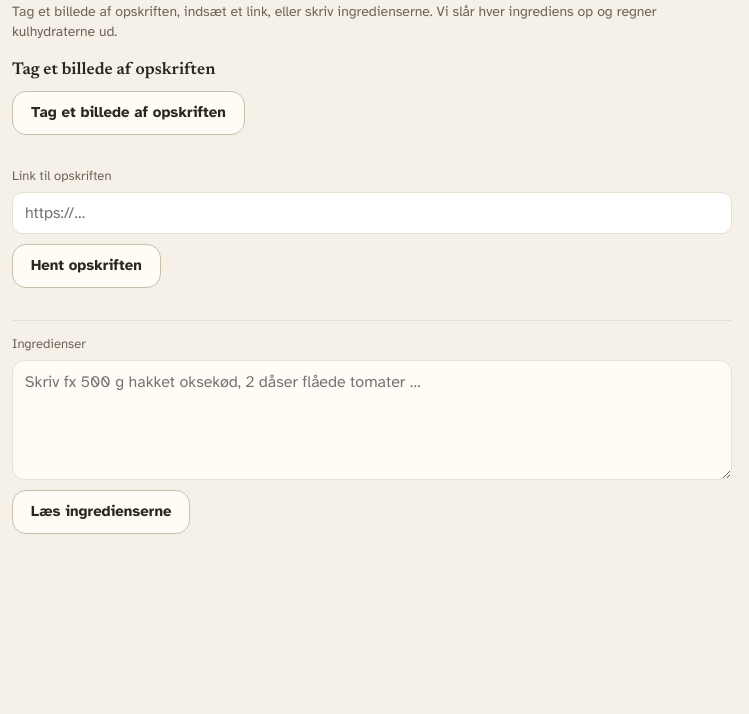
Test: RecipeScreen (/recipe/new) › changes a line's match by search
The width and height of the screenshot is (749, 714).
Type "x" into the text box labelled "Ingredienser" at (372, 420), box [12, 360, 732, 480]
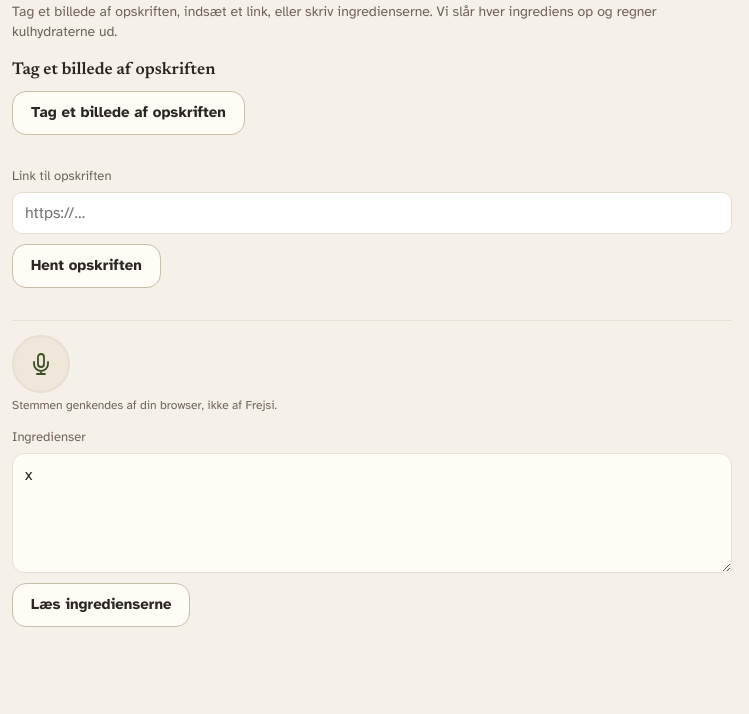
Click the button "Læs ingredienserne" at (101, 605), box [12, 583, 190, 627]
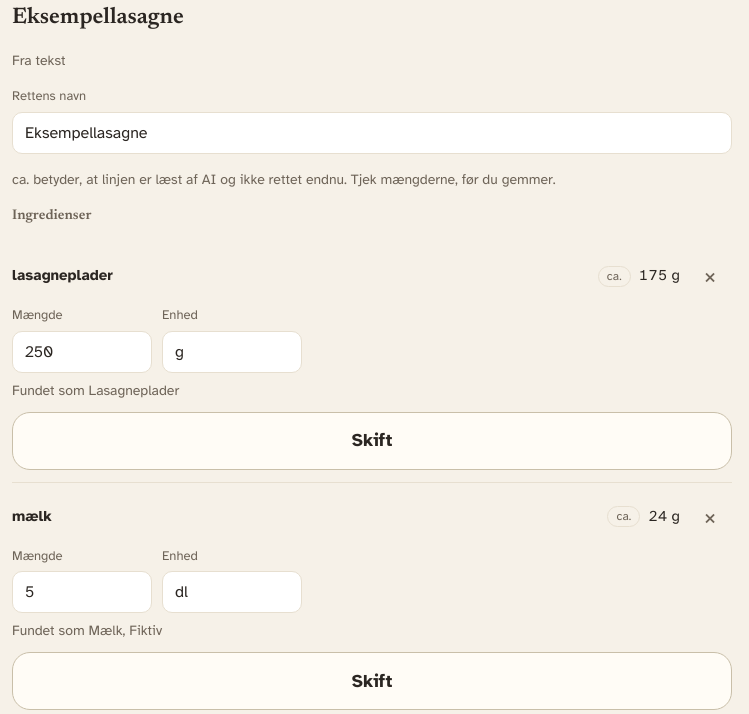
Click the button "Skift" below "Fundet som Mælk, Fiktiv" at (372, 681), box [12, 652, 732, 710]
(page scrolled)
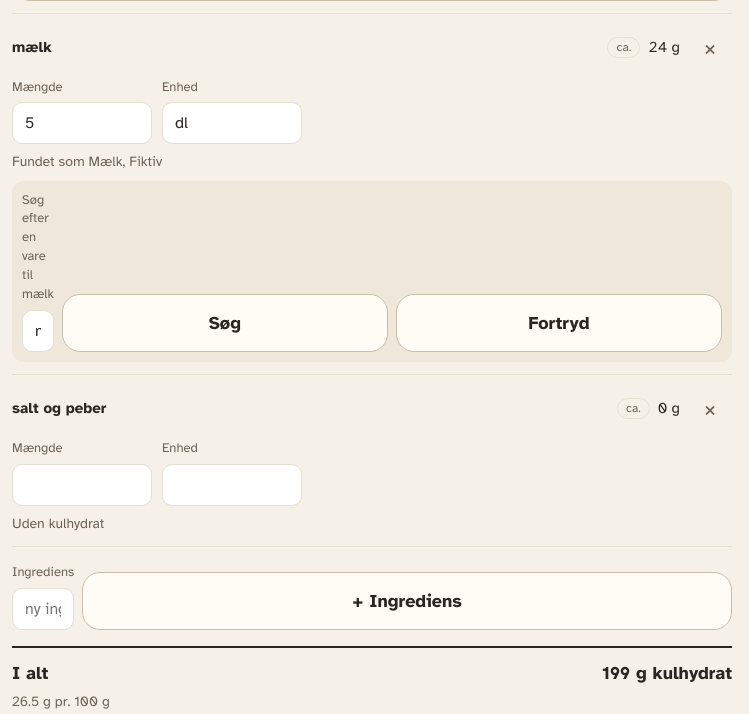
Replace the text in the field labelled "Søg efter en vare til mælk" with "skummet" at (38, 331), box [22, 310, 54, 352]
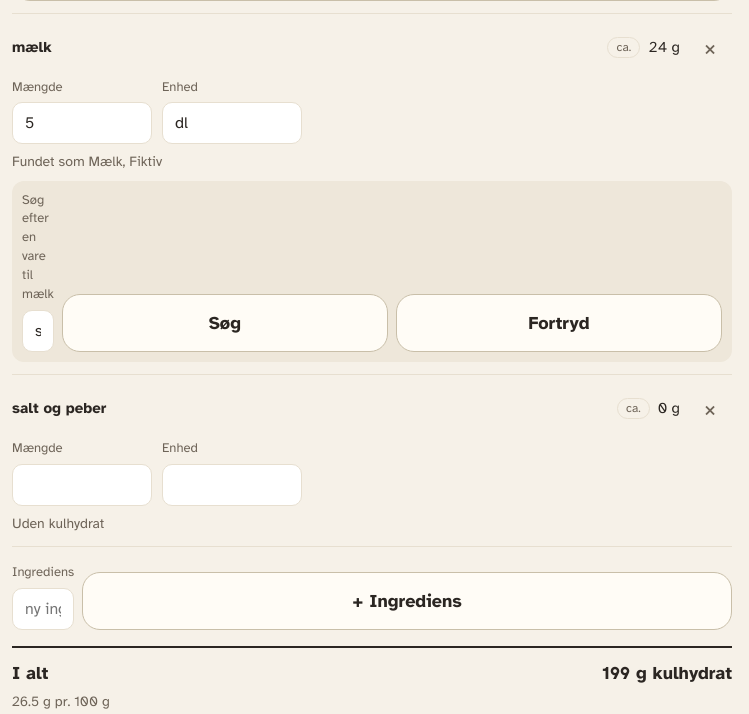
Click the button "Søg" at (225, 323), box [62, 294, 388, 352]
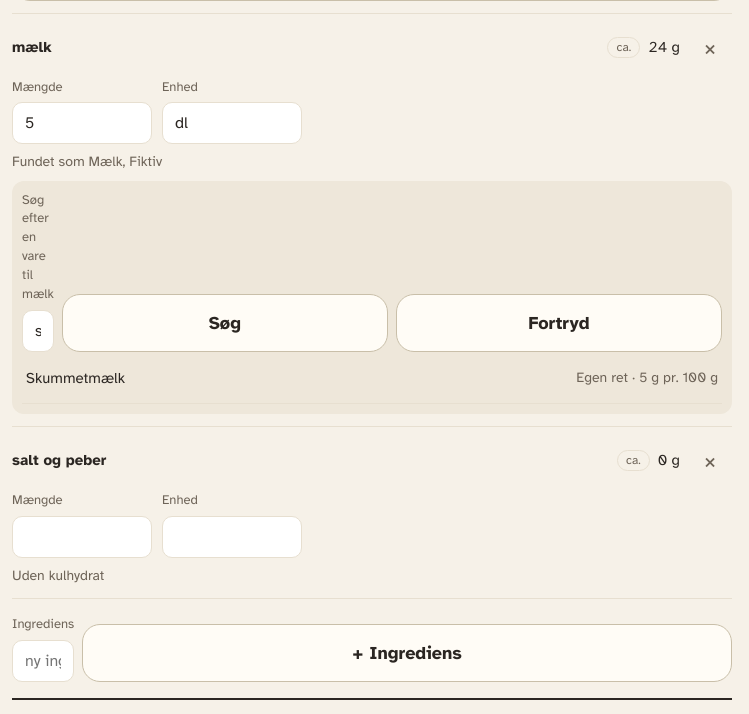
Click the button with aria-label "Vælg Skummetmælk" at (76, 378), box [22, 360, 722, 404]
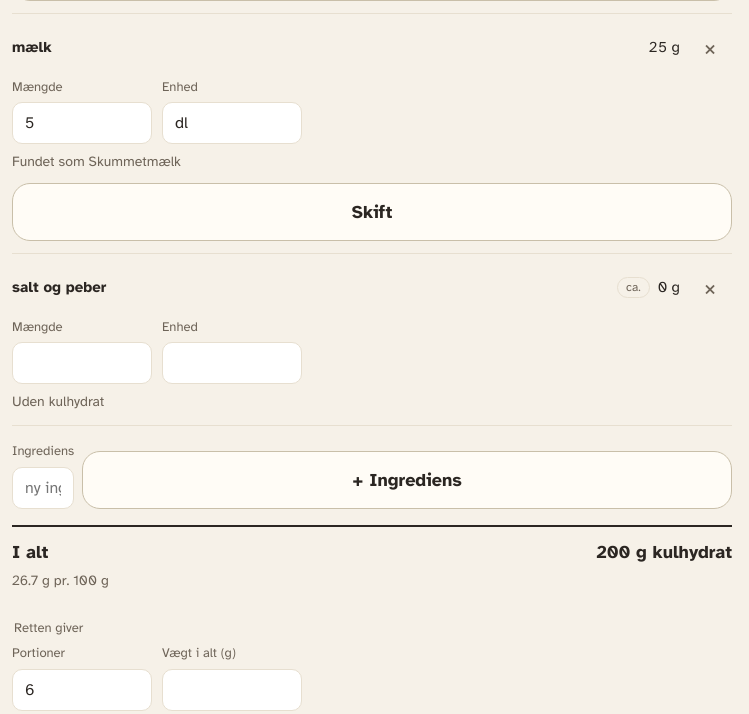
Now the text "Fundet som Skummetmælk" is shown, box [12, 153, 181, 170]
Now the text "25 g" is shown, box [648, 37, 680, 58]
